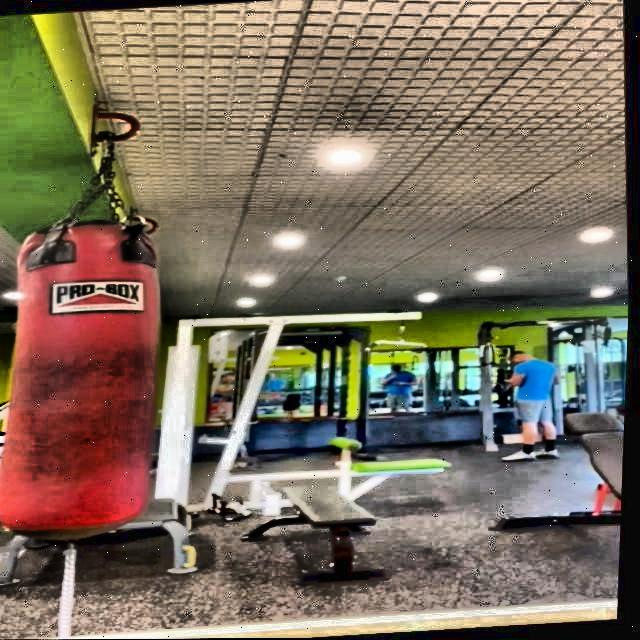boxing-bag: (0, 104, 182, 550)
